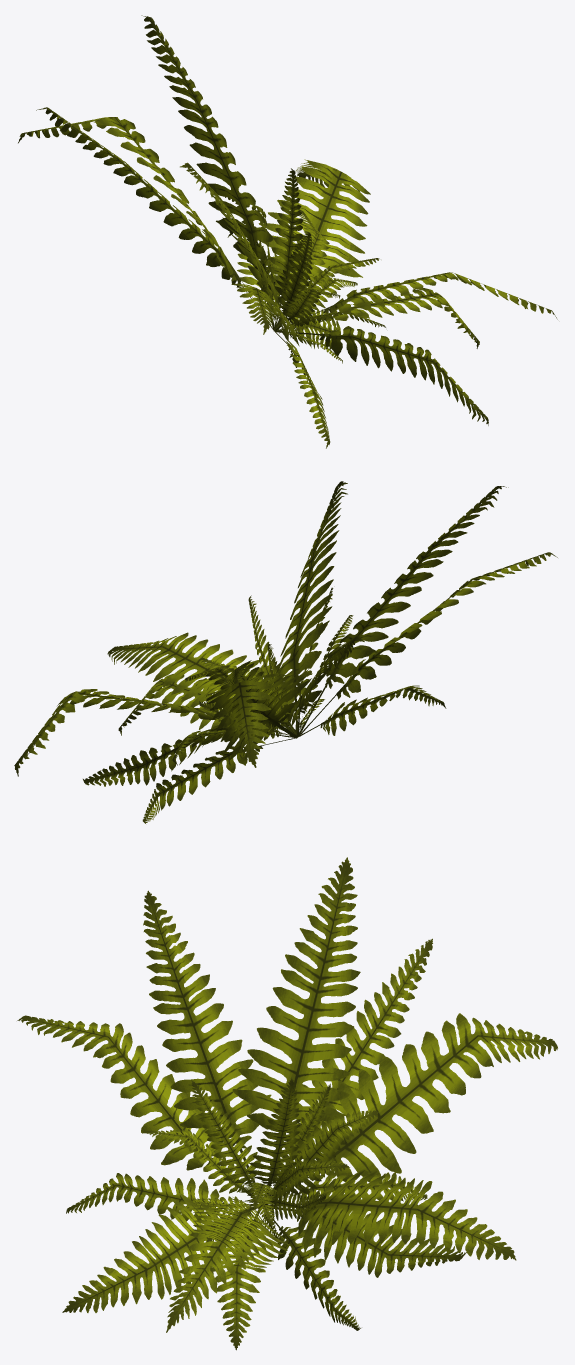
File: Boston Fern.fbx
3 renders of one model, top to bottom at view 1: azimuth 30°, elevation 25°; view 2: azimuth 150°, elevation 25°; view 3: azimuth 270°, elevation 25°, orthographic.
Parts seen in each view (by area): view 1: Boston_Fern1; view 2: Boston_Fern1; view 3: Boston_Fern1.
Boxes of the visible parts, x1=… form: Boston_Fern1: x1=18, y1=15, x2=557, y2=448; Boston_Fern1: x1=14, y1=481, x2=557, y2=823; Boston_Fern1: x1=17, y1=857, x2=557, y2=1350.
Size of the model in its own units: 124 by 116 by 151.
